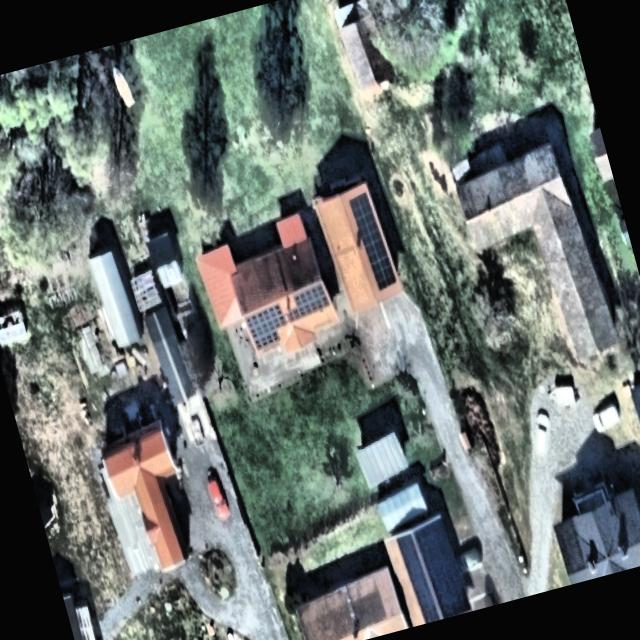roof_pv: (238, 278, 339, 352), (344, 189, 398, 297)
